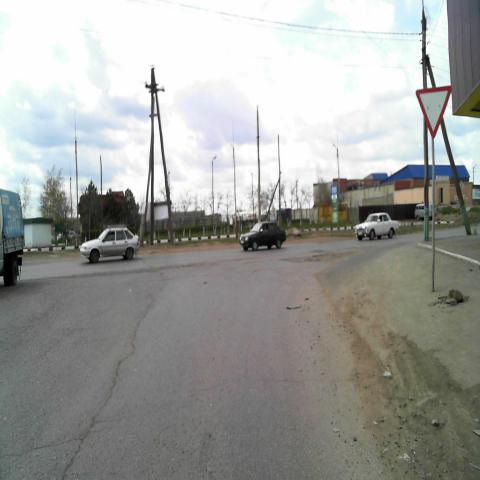2_4: (414, 86, 453, 138)
